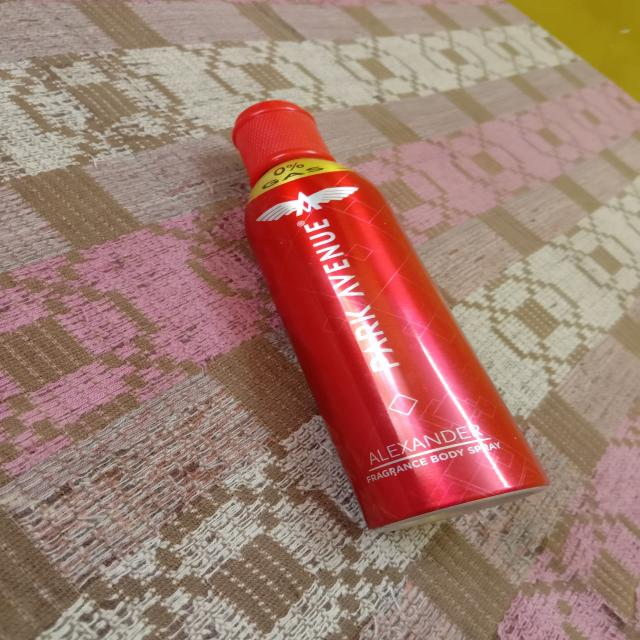deodorant: (203, 88, 568, 535)
